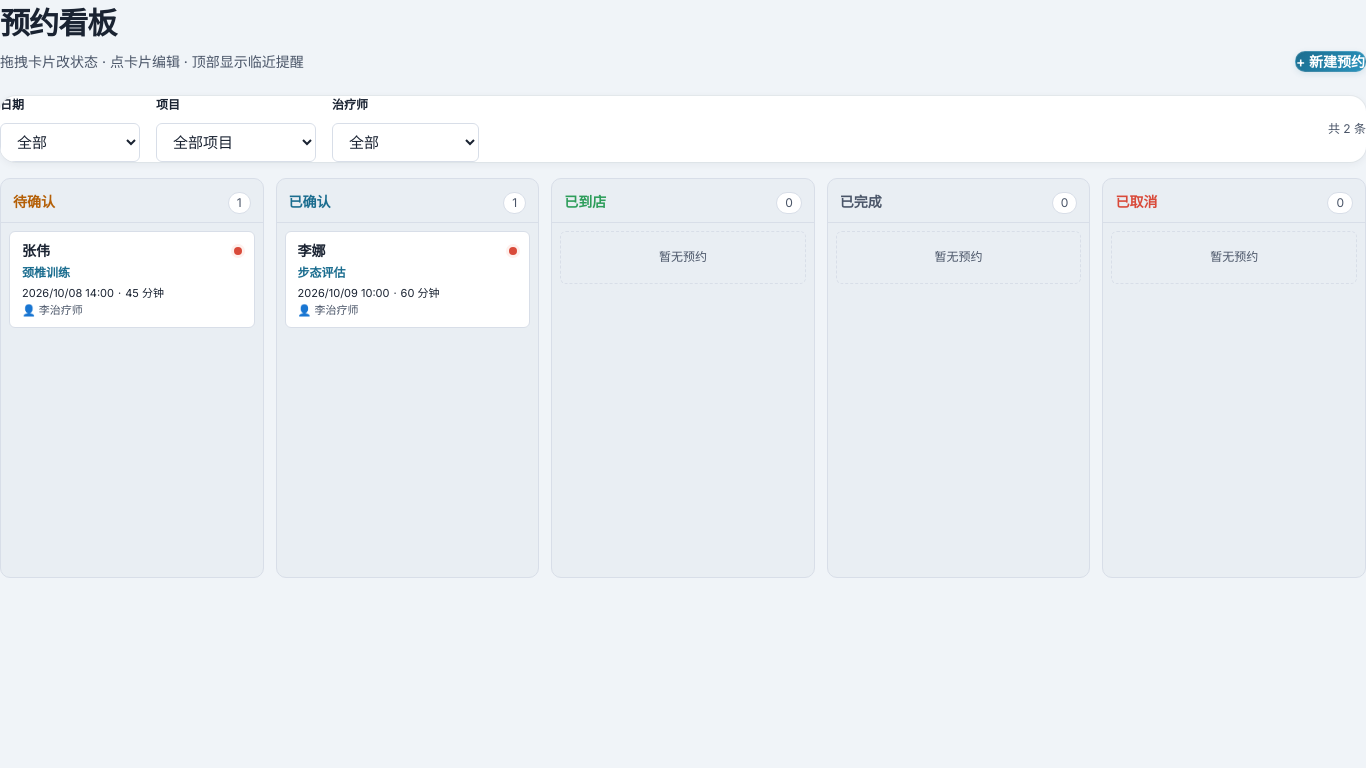
Test: AppointmentsPage › 点击 + 新建预约 → 打开新建弹窗
Click the button with test id "new-appointment-btn": (1330, 61) [1295,51,1365,72]
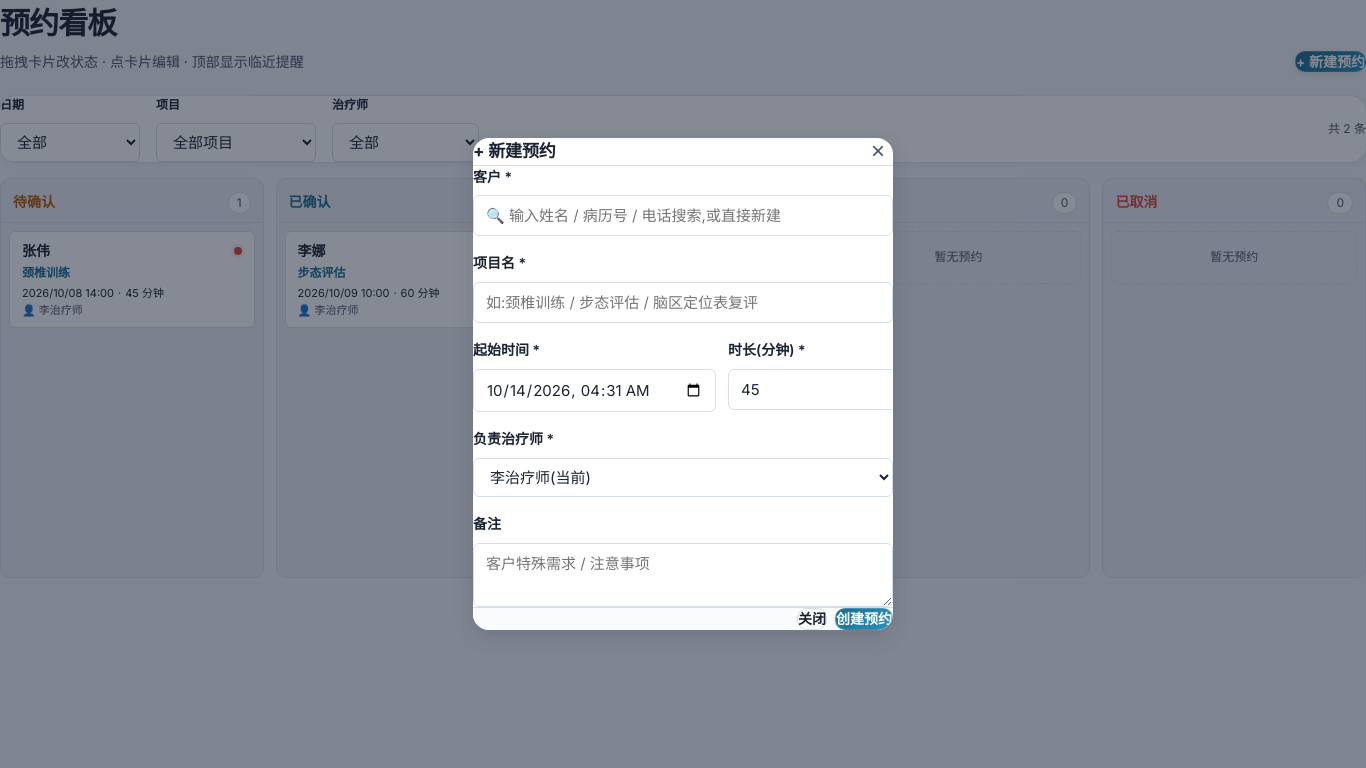
Now the element with test id "appointment-form-backdrop" is shown
Now the heading "+ 新建预约" is shown, box [473,138,556,164]
